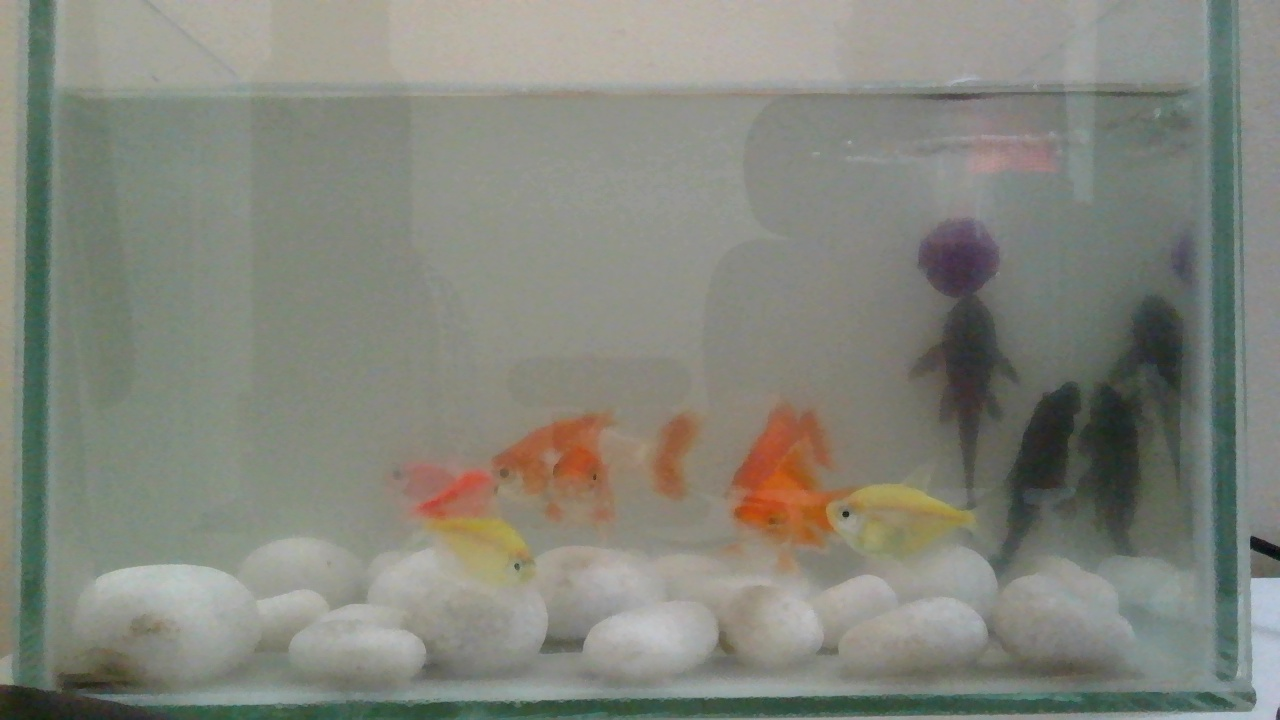fish: (726, 429, 1002, 608), (354, 463, 552, 685), (387, 401, 618, 536), (814, 477, 1005, 611), (727, 395, 836, 551), (817, 474, 996, 565)
